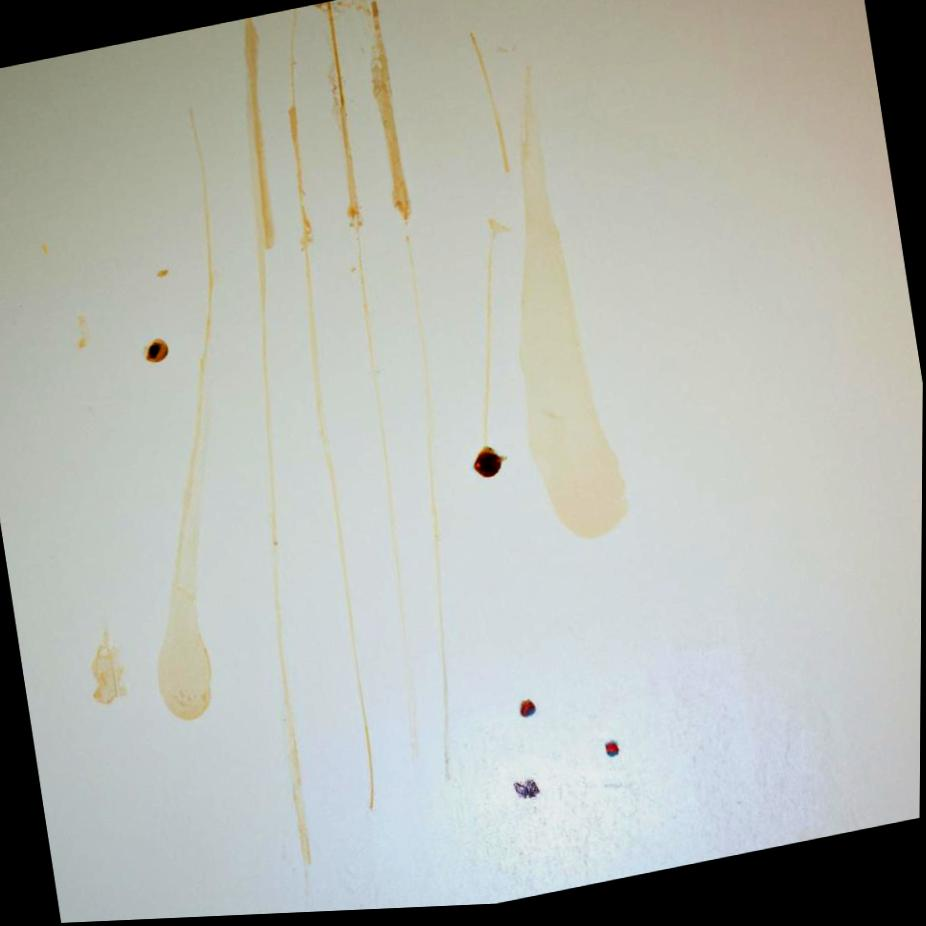Fire: (474, 451, 506, 482)
